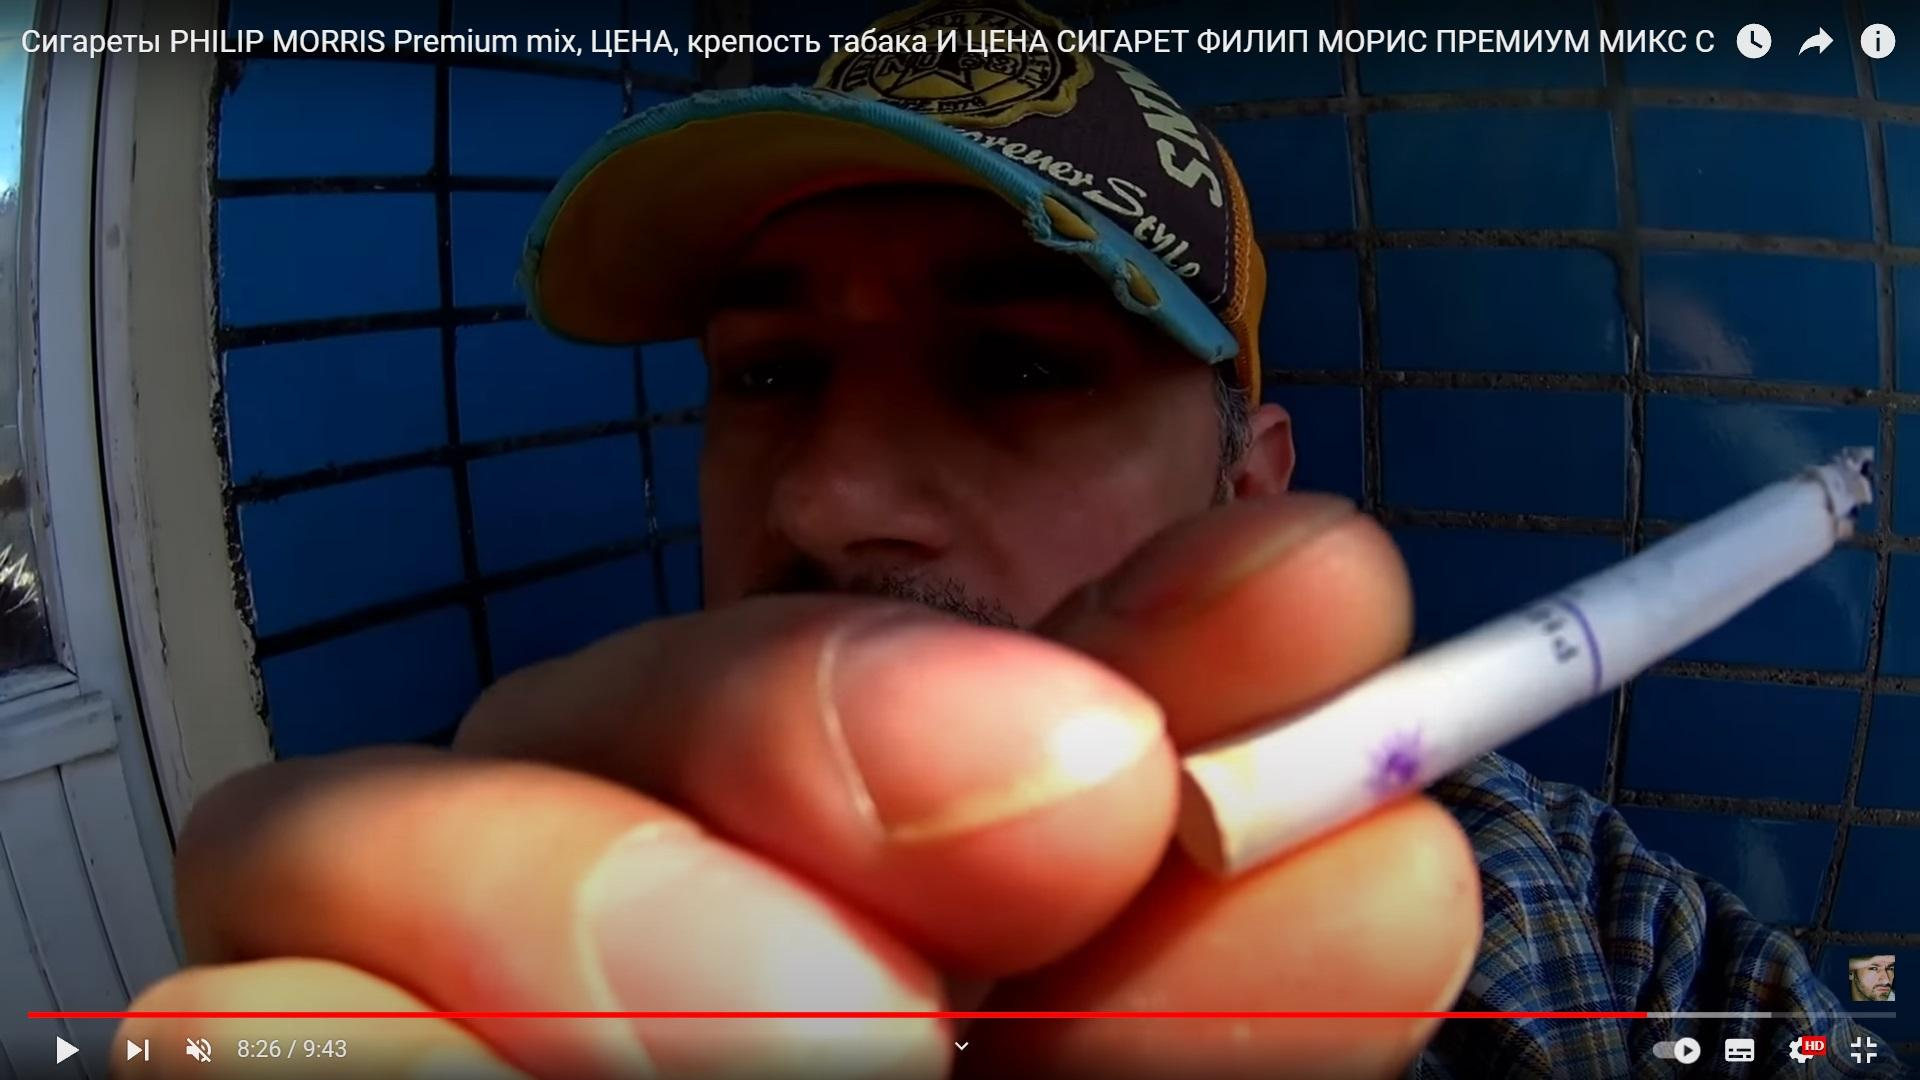cigarette: (1175, 438, 1880, 878)
